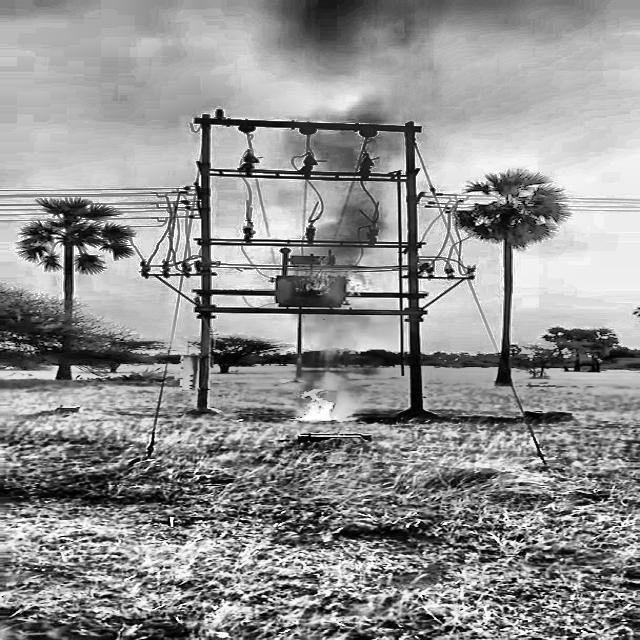Fire: (284, 246, 360, 314), (286, 382, 350, 426)
